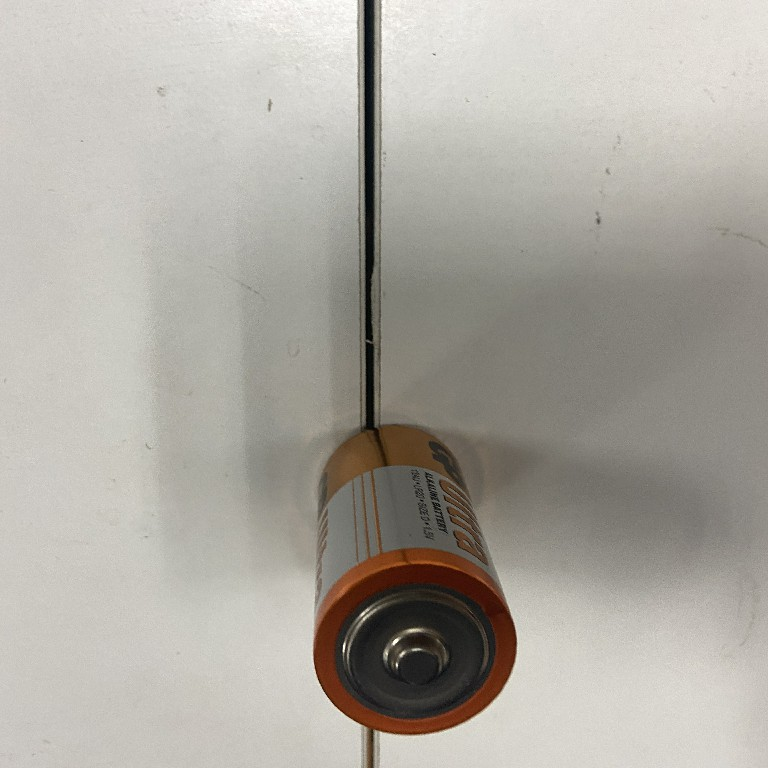charge: (308, 419, 522, 737)
